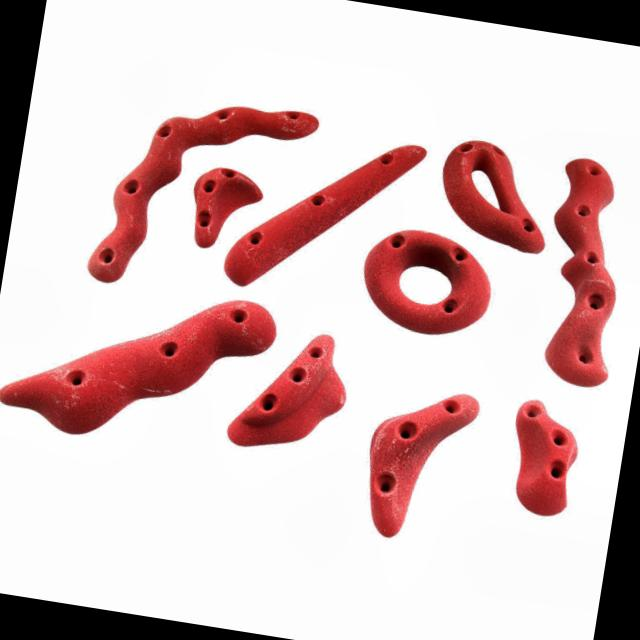Hold: (60, 88, 340, 293), (0, 255, 277, 462), (199, 132, 437, 293), (524, 151, 640, 388), (352, 383, 492, 549), (224, 326, 356, 458), (360, 227, 502, 338), (433, 136, 559, 252), (498, 393, 593, 527), (188, 165, 270, 256)
